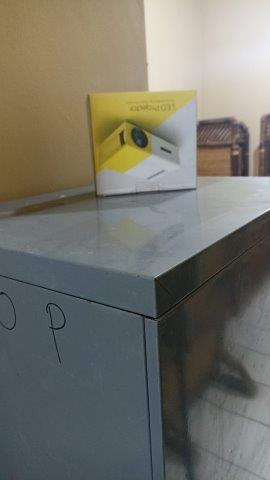kardus: (85, 91, 197, 195)
